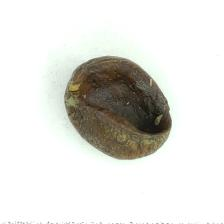NG: (76, 57, 173, 142)
